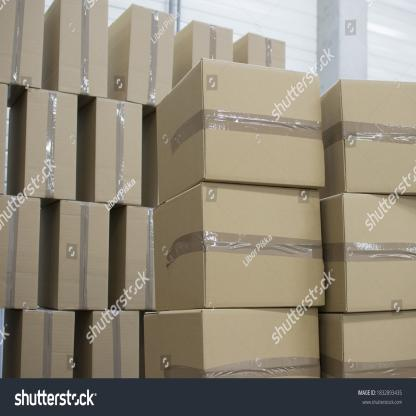box: (201, 60, 325, 186), (202, 183, 326, 307), (338, 78, 416, 192), (342, 193, 416, 313), (202, 309, 321, 378), (26, 86, 76, 198), (58, 200, 107, 310), (94, 98, 143, 205), (57, 0, 107, 98), (127, 5, 176, 100), (342, 314, 416, 375), (0, 197, 39, 311), (0, 0, 45, 87), (20, 308, 73, 377), (91, 310, 140, 379)
